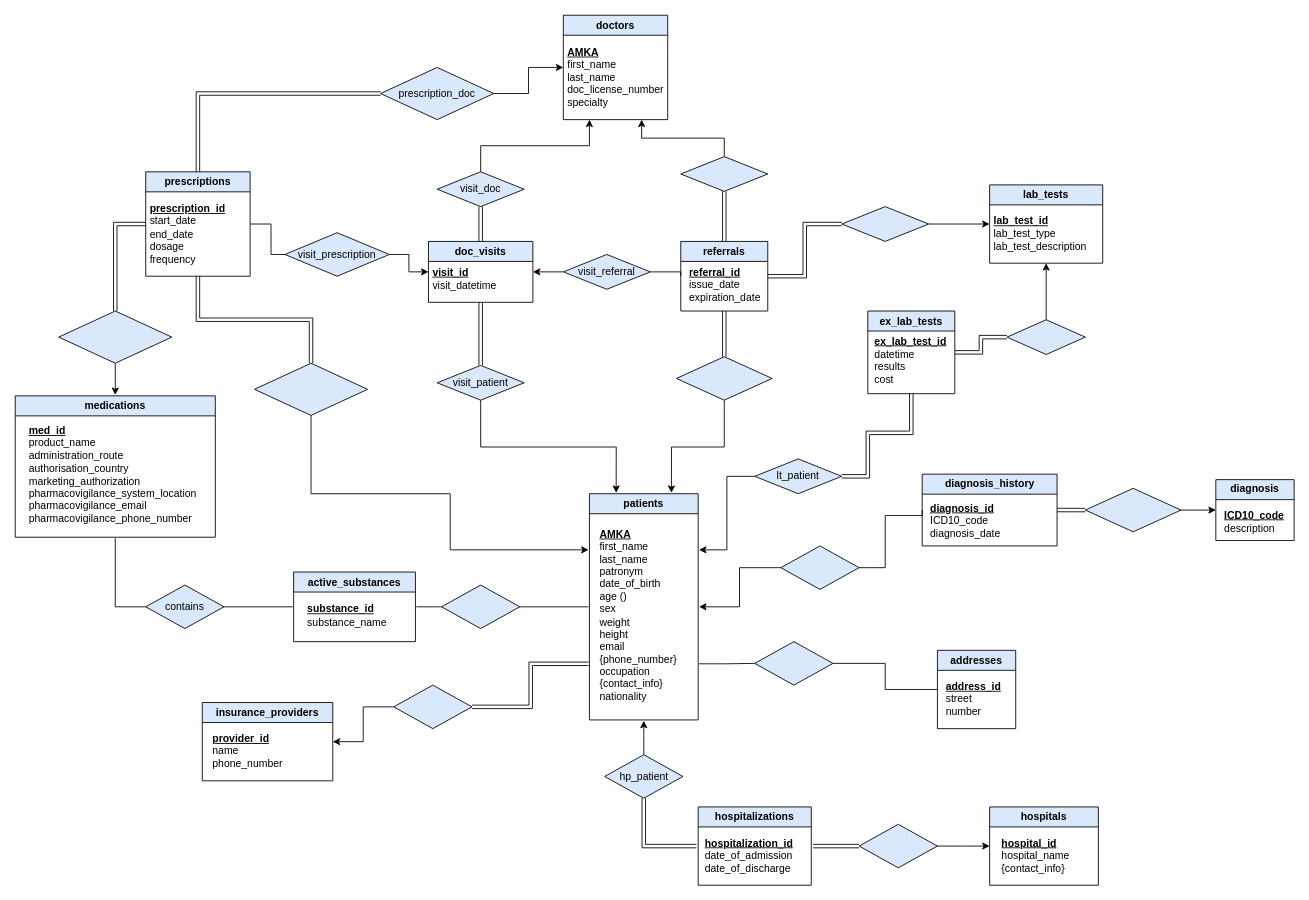
This 1309x900 diagram has some shape labels left out. The shapes that lost their labels are listed below. From the top down, each one's centre as x and y in pixels, then its label:
At (724,173): "referral_doc".
At (885,223): "referral_test".
At (115,336): "prescription_med".
At (1045,337): "lt_type".
At (311,388): "prescription_patient".
At (724,378): "referral_patient".
At (1132,509): "diagnosis_type".
At (819,567): "pt_diagnosis".
At (480,606): "has_allergy".
At (793,663): "has_address".
At (432,706): "has_provider".
At (897,845): "hp_hospital".
